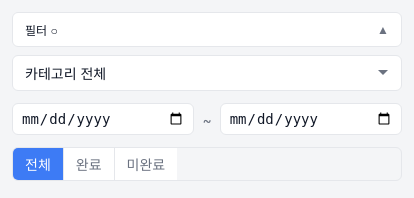
Test case: TodoFilter 모바일 토글 › 토글 버튼 클릭 시 필터 숨김
What coordinates should you click on to do the following:
click the button with aria-label "필터 토글"
I would click on:
 (36, 31)
Its box is [12,12,402,47].
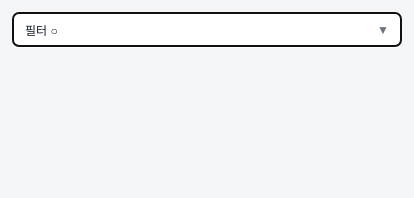
expect the dropdown is gone: met
